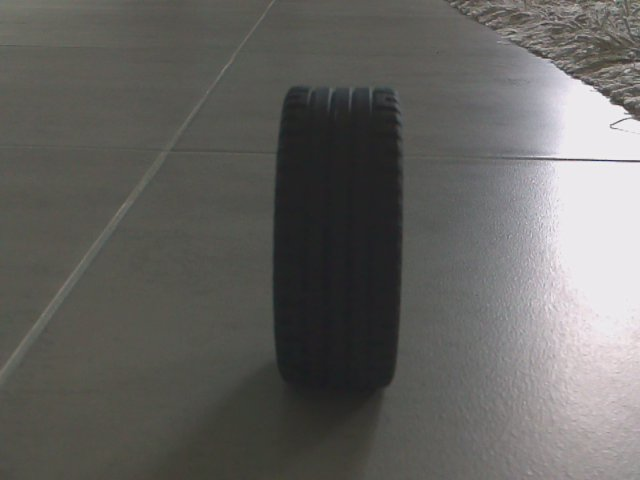Rad: (265, 82, 410, 397)
